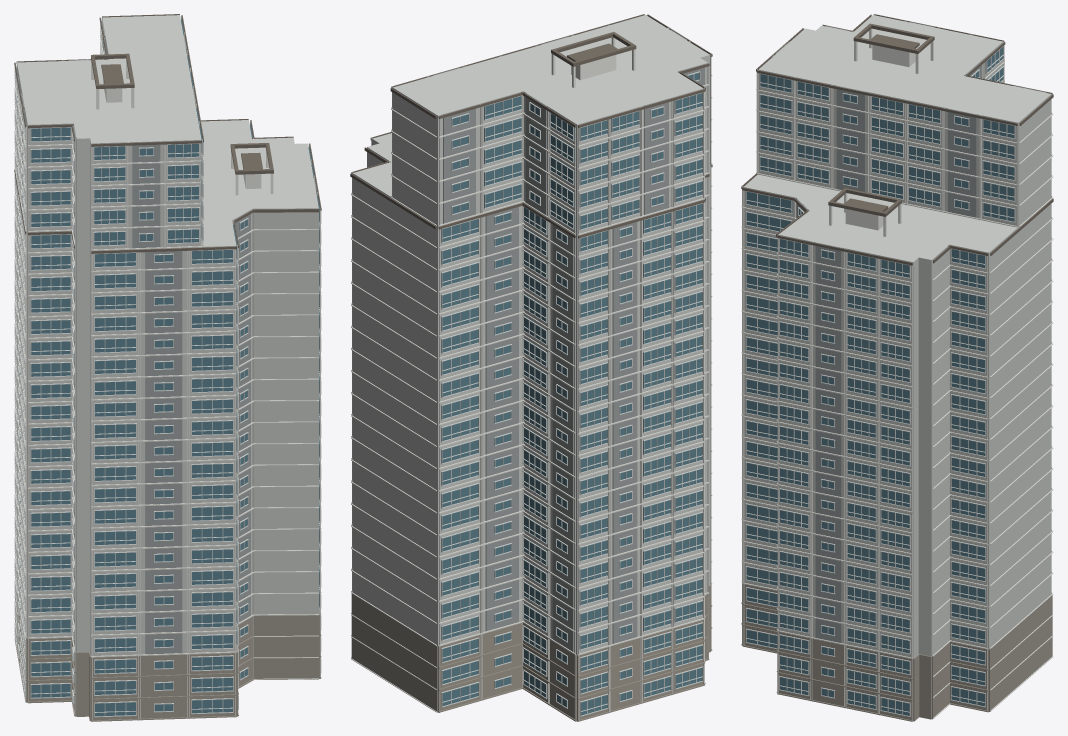
File: bespoke-banpo-xi-114.glb
3 renders of one model, left to right at view 1: azimuth 30°, elevation 25°; view 2: azimuth 150°, elevation 25°; view 3: azimuth 270°, elevation 25°, orthographic. The views are drawn at different scales.
Visible parts, largest first — view 1: BX114_editable_BX114_pale_silver_limestone, BX114_editable_BX114_blue_grey_broad_glazing, BX114_editable_BX114_white_window_frames, BX114_editable_BX114_ivory_course_bands, BX114_editable_BX114_grey_service_core, BX114_editable_BX114_warm_ground_stone, BX114_editable_BX114_dark_coping; view 2: BX114_editable_BX114_pale_silver_limestone, BX114_editable_BX114_blue_grey_broad_glazing, BX114_editable_BX114_white_window_frames, BX114_editable_BX114_ivory_course_bands, BX114_editable_BX114_grey_service_core, BX114_editable_BX114_warm_ground_stone, BX114_editable_BX114_dark_coping; view 3: BX114_editable_BX114_pale_silver_limestone, BX114_editable_BX114_blue_grey_broad_glazing, BX114_editable_BX114_white_window_frames, BX114_editable_BX114_ivory_course_bands, BX114_editable_BX114_grey_service_core, BX114_editable_BX114_warm_ground_stone, BX114_editable_BX114_dark_coping.
Part boxes in pixels (x1=…): BX114_editable_BX114_pale_silver_limestone: x1=17, y1=15, x2=318, y2=715; BX114_editable_BX114_blue_grey_broad_glazing: x1=16, y1=19, x2=319, y2=716; BX114_editable_BX114_white_window_frames: x1=14, y1=26, x2=321, y2=717; BX114_editable_BX114_ivory_course_bands: x1=14, y1=15, x2=321, y2=721; BX114_editable_BX114_grey_service_core: x1=19, y1=20, x2=316, y2=654; BX114_editable_BX114_warm_ground_stone: x1=14, y1=596, x2=321, y2=721; BX114_editable_BX114_dark_coping: x1=14, y1=14, x2=321, y2=253; BX114_editable_BX114_pale_silver_limestone: x1=352, y1=15, x2=710, y2=720; BX114_editable_BX114_blue_grey_broad_glazing: x1=441, y1=73, x2=702, y2=715; BX114_editable_BX114_white_window_frames: x1=441, y1=71, x2=703, y2=716; BX114_editable_BX114_ivory_course_bands: x1=351, y1=14, x2=712, y2=720; BX114_editable_BX114_grey_service_core: x1=432, y1=29, x2=704, y2=652; BX114_editable_BX114_warm_ground_stone: x1=351, y1=584, x2=712, y2=721; BX114_editable_BX114_dark_coping: x1=350, y1=14, x2=712, y2=238; BX114_editable_BX114_pale_silver_limestone: x1=743, y1=15, x2=1051, y2=718; BX114_editable_BX114_blue_grey_broad_glazing: x1=746, y1=47, x2=1014, y2=715; BX114_editable_BX114_white_window_frames: x1=745, y1=45, x2=1015, y2=716; BX114_editable_BX114_ivory_course_bands: x1=741, y1=14, x2=1053, y2=720; BX114_editable_BX114_grey_service_core: x1=775, y1=22, x2=1046, y2=643; BX114_editable_BX114_warm_ground_stone: x1=741, y1=583, x2=1052, y2=721; BX114_editable_BX114_dark_coping: x1=741, y1=14, x2=1053, y2=265.
Size of the model in its own units: 40.11 by 75.7 by 36.55.
